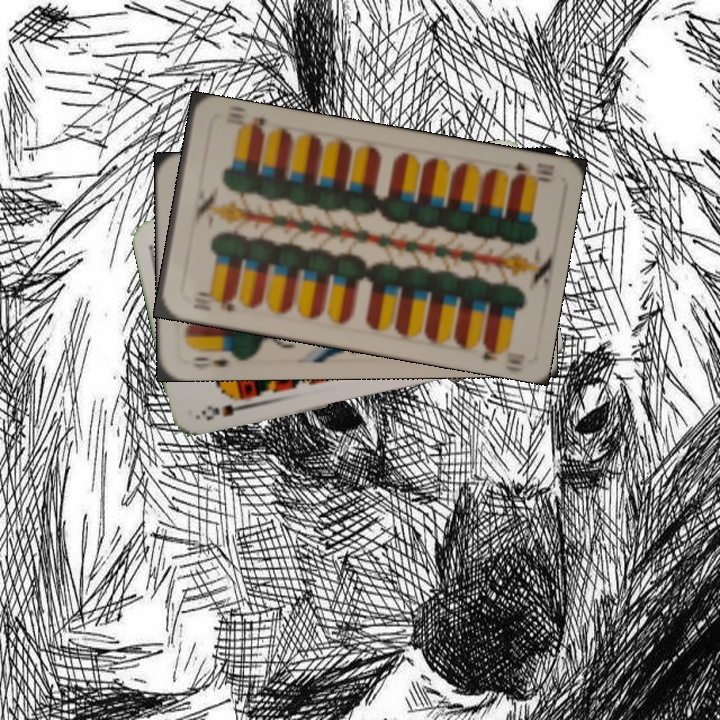E10: (507, 158, 557, 186), (189, 292, 238, 314)
EO: (185, 345, 241, 369)
S9: (195, 399, 253, 423)
